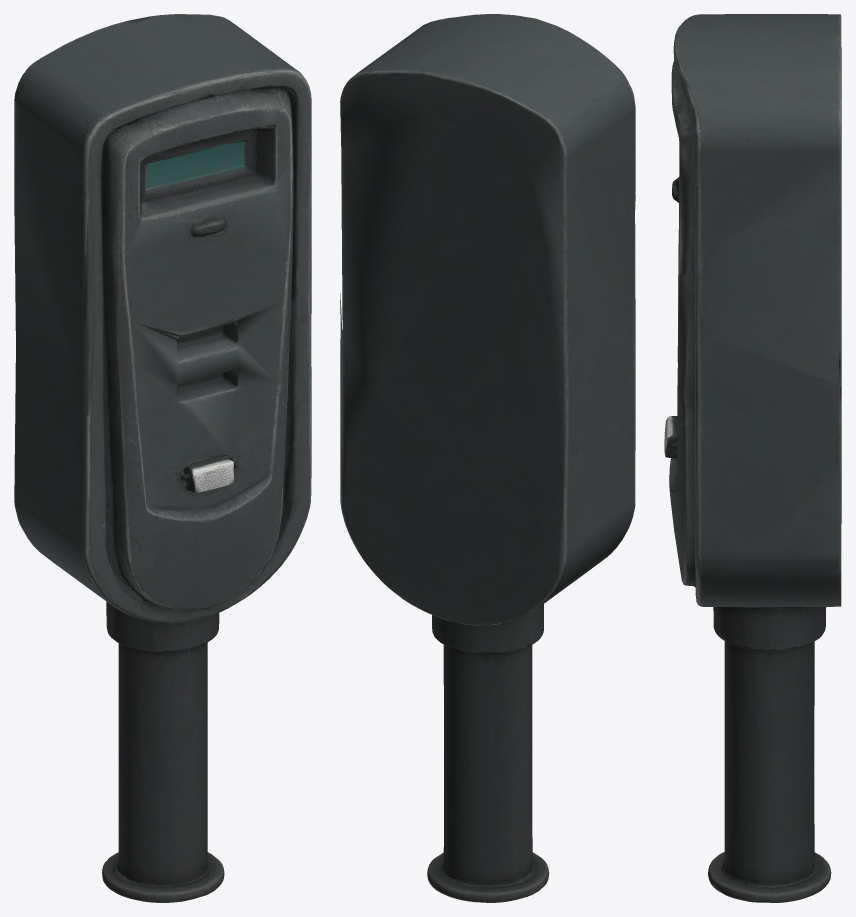
Rendered from meter.glb.
The picture shows the model from 3 angles, left to right: view 1: azimuth 30°, elevation 25°; view 2: azimuth 150°, elevation 25°; view 3: azimuth 270°, elevation 25°; orthographic projection.
Size of the model in its own units: 0.545 by 1.9 by 0.3641.
1 material, 1 textured.
